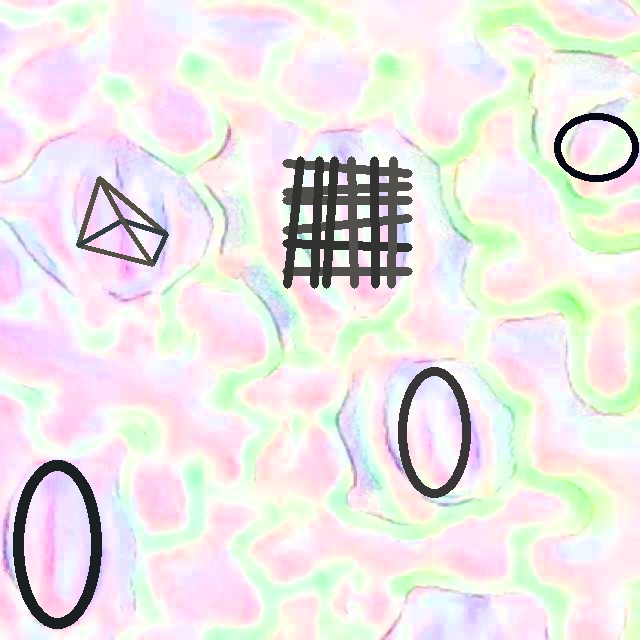close: (13, 460, 101, 629), (553, 112, 639, 182)
open: (283, 157, 412, 288), (397, 365, 471, 498), (77, 176, 167, 265)
